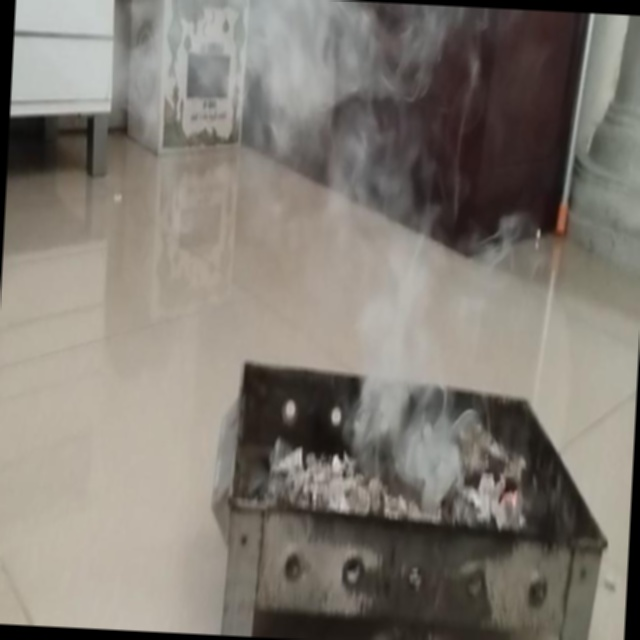smoke: (337, 2, 464, 453)
